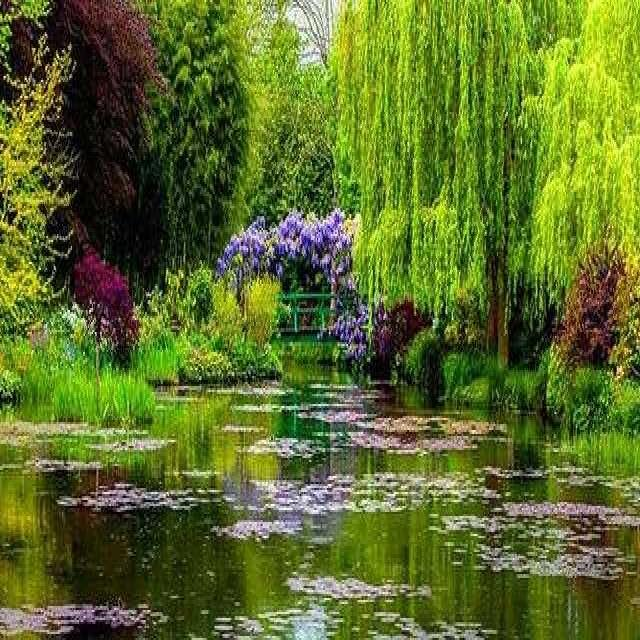Ponds: (3, 360, 638, 638)
